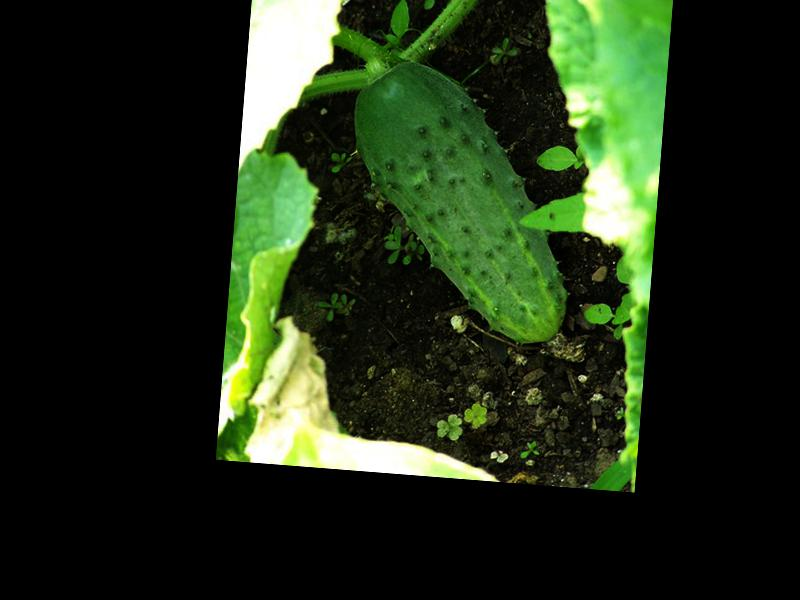Cucumber: (336, 55, 584, 346)
